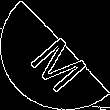M_NE: (19, 21, 91, 89)
